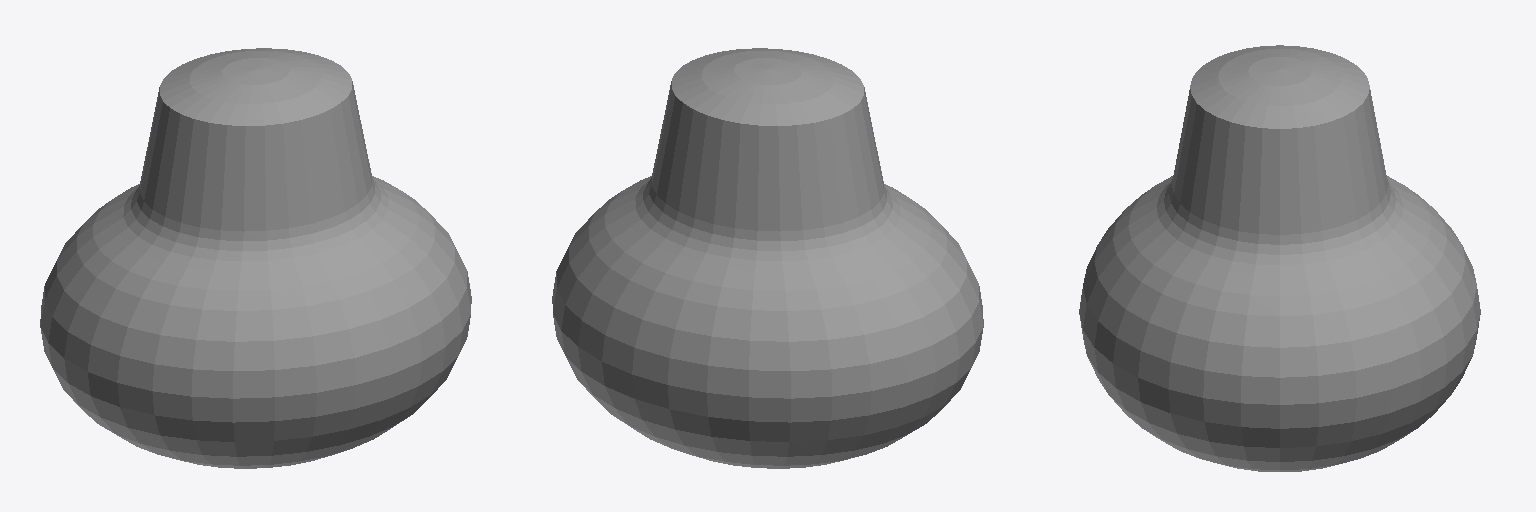
Rendered from light_bulb_1.obj.
3 renders of one model, left to right at view 1: azimuth 30°, elevation 25°; view 2: azimuth 150°, elevation 25°; view 3: azimuth 270°, elevation 25°, orthographic.
Parts seen in each view (by area): view 1: light_bulb_1_Sphere003; view 2: light_bulb_1_Sphere003; view 3: light_bulb_1_Sphere003.
Part boxes in pixels (left/top/right/bottom): light_bulb_1_Sphere003: left=40, top=48, right=471, bottom=468; light_bulb_1_Sphere003: left=552, top=48, right=983, bottom=468; light_bulb_1_Sphere003: left=1079, top=45, right=1480, bottom=471.
Bounding box in the file's own units: 0.1584 × 0.1472 × 0.1437.